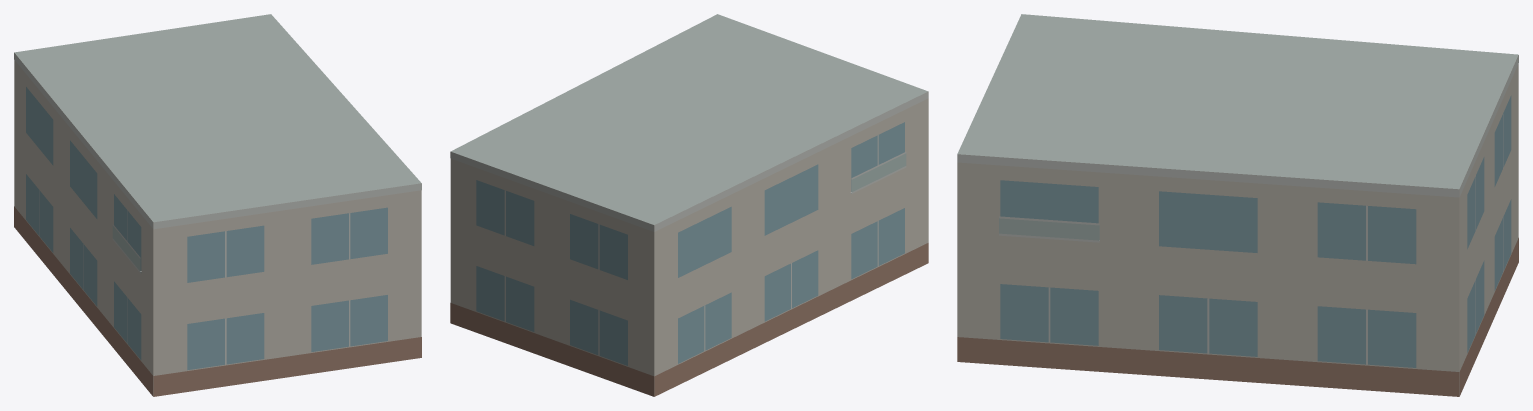
File: survey-upis-32802930.glb
The picture shows the model from 3 angles, left to right: view 1: azimuth 30°, elevation 25°; view 2: azimuth 150°, elevation 25°; view 3: azimuth 270°, elevation 25°; orthographic projection. The views are drawn at different scales.
Visible parts, largest first — view 1: survey-upis-32802930.tmp; view 2: survey-upis-32802930.tmp; view 3: survey-upis-32802930.tmp.
Part boxes in pixels (box(x1,y1,x2,y2)): survey-upis-32802930.tmp: box(14, 14, 421, 396); survey-upis-32802930.tmp: box(450, 14, 928, 396); survey-upis-32802930.tmp: box(957, 14, 1518, 396).
Bounding box in the file's own units: 11.05 × 6.1 × 14.96.
